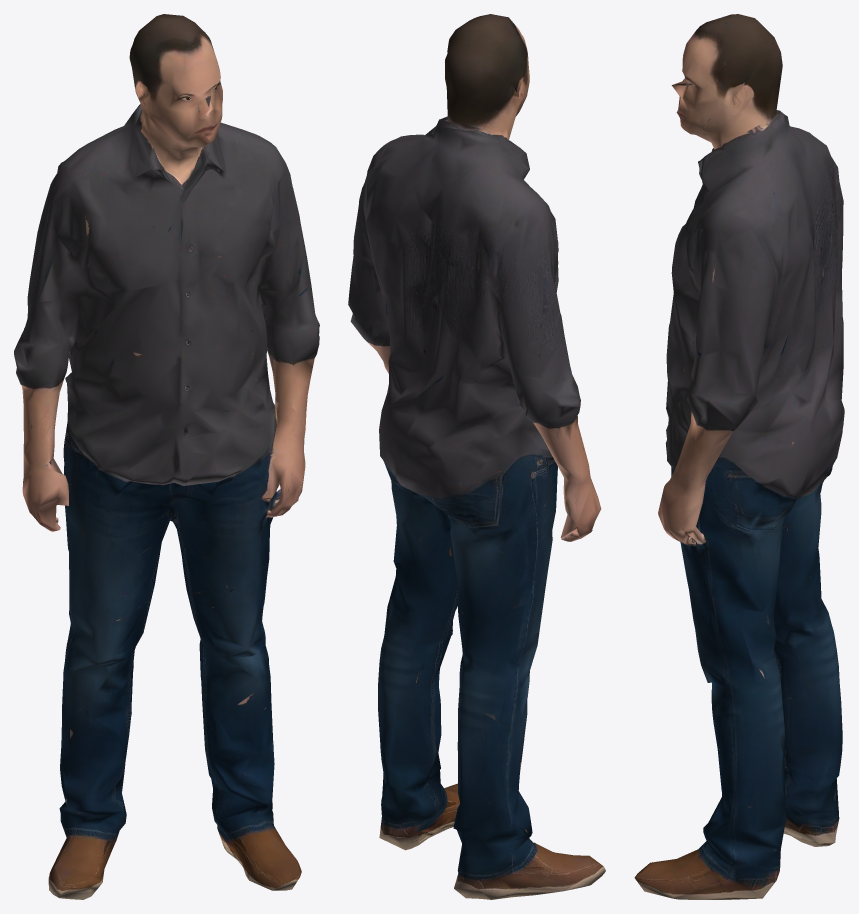
File: person7.glb
The picture shows the model from 3 angles, left to right: view 1: azimuth 30°, elevation 25°; view 2: azimuth 150°, elevation 25°; view 3: azimuth 270°, elevation 25°; orthographic projection. The views are drawn at different scales.
Visible parts, largest first — view 1: Object_5; view 2: Object_5; view 3: Object_5.
Boxes of the visible parts, x1,y1,x2,y2 form: Object_5: (14, 14, 319, 899); Object_5: (348, 14, 605, 899); Object_5: (634, 14, 844, 899).
Bounding box in the file's own units: 0.6137 × 1.9 × 0.431.
1 material, 1 textured.
